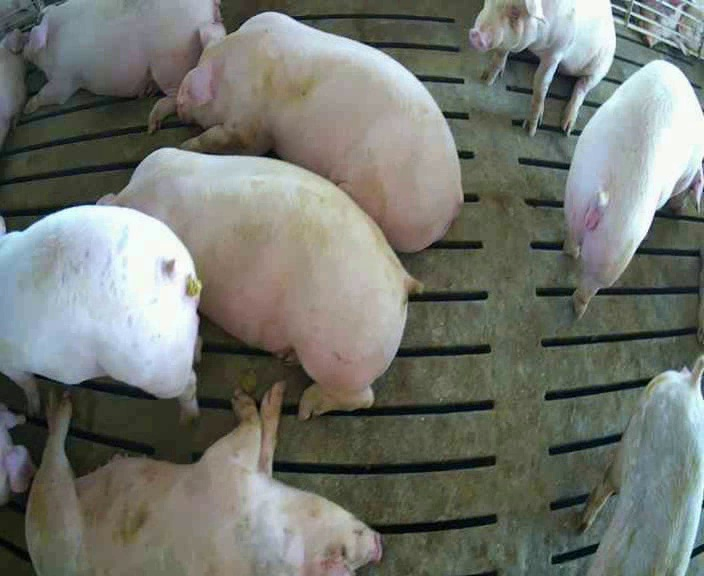pig: (100, 148, 418, 419), (26, 382, 381, 574), (177, 12, 462, 251), (565, 60, 703, 318), (582, 355, 703, 574), (24, 2, 221, 132), (469, 1, 615, 135), (0, 30, 25, 147)
